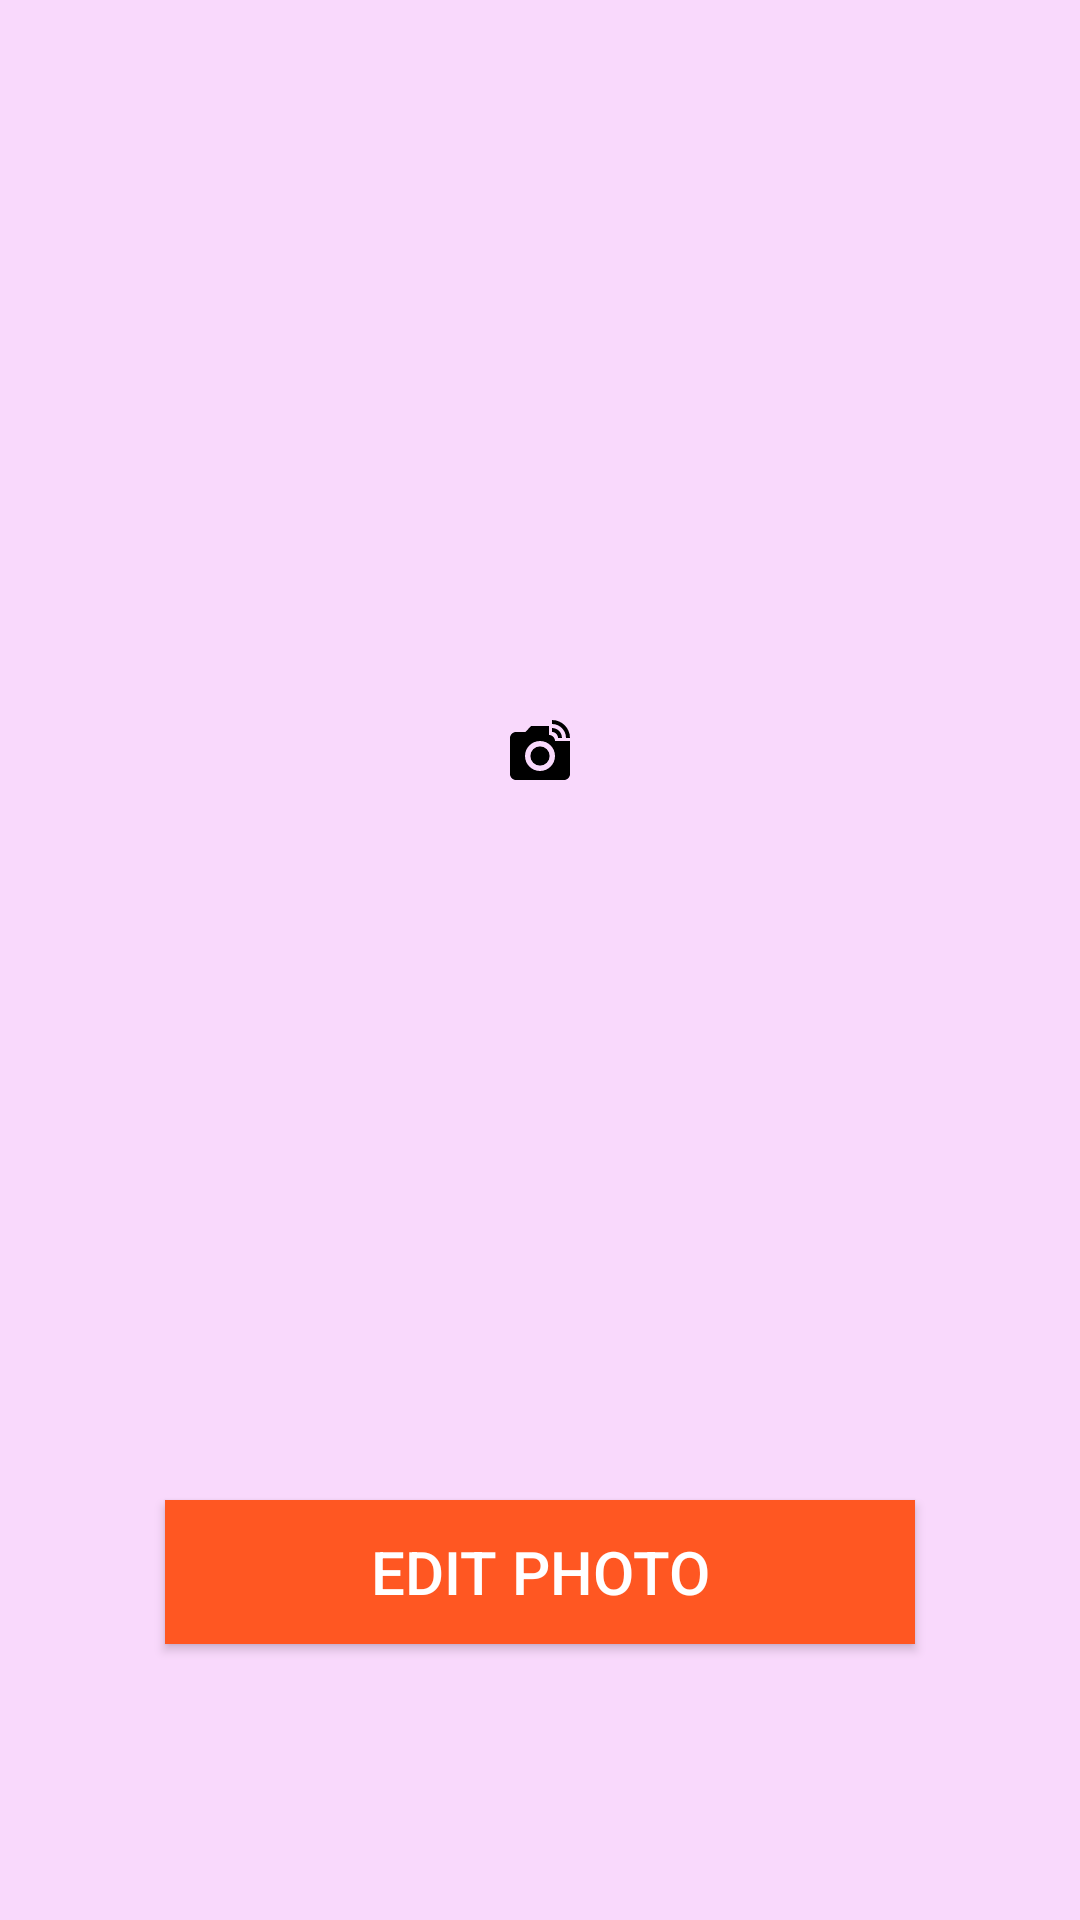

Named icons in this screenshot (1080px x 1920px) and their centers, [x,y]:
linked camera: [540,750]
